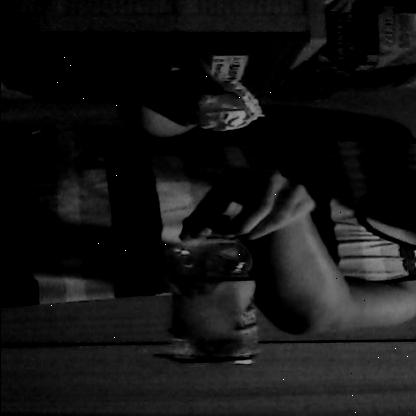Plastic Bottle: (157, 208, 263, 373)
